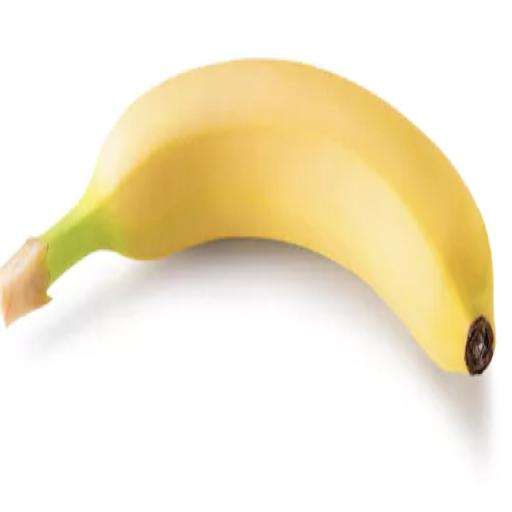banana: (0, 60, 494, 374)
